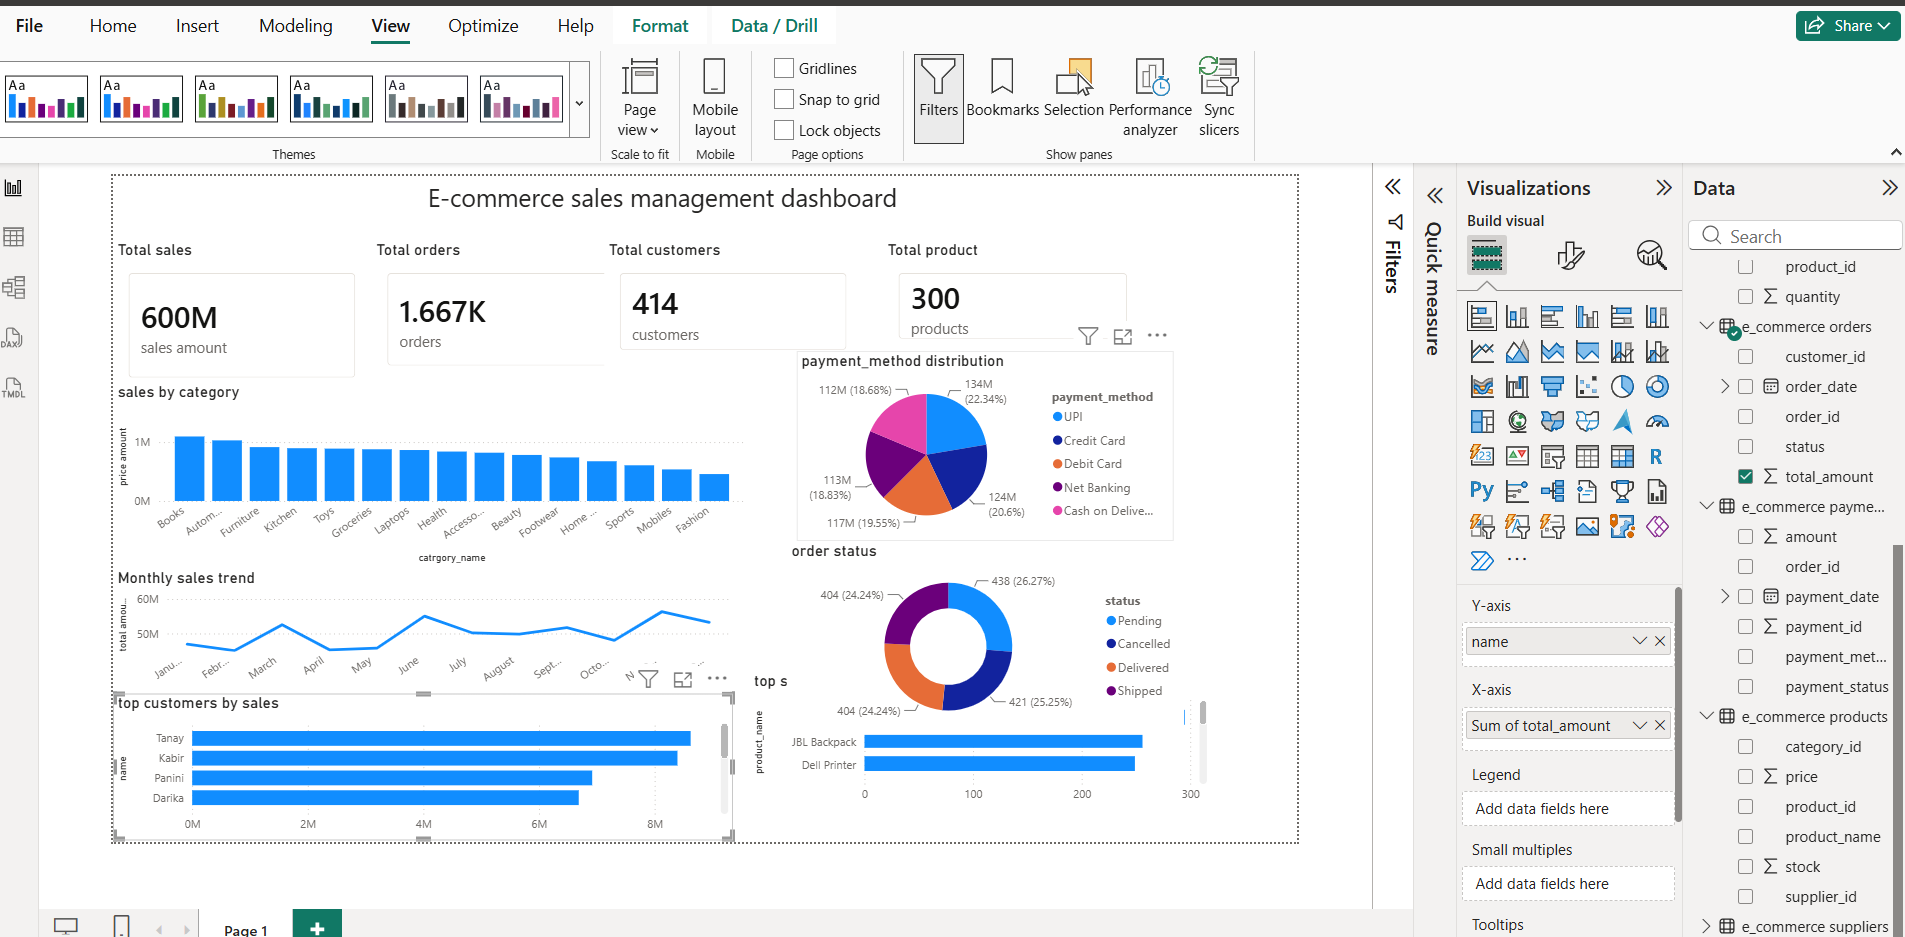

This screenshot's page, from the dashboard's own definition file:
{"tool":"powerbi","page":{"name":"Page 1","canvas":[1280,720],"ordinal":0},"visuals":[{"type":"cardVisual","title":"Total sales","fields":{"Data":["Sum(e_commerce orders.total_amount)"]},"box":[0,68.7,279.7,166.2],"z":0},{"type":"cardVisual","title":"Total orders","fields":{"Data":["CountNonNull(e_commerce orders.total_amount)"]},"box":[279.7,68.7,279.7,154.1],"z":1000},{"type":"cardVisual","title":"Total customers","fields":{"Data":["CountNonNull(e_commerce customers.customer_id)"]},"box":[531.1,68.7,279.7,136.5],"z":2000},{"type":"cardVisual","title":" Total product","fields":{"Data":["Count(e_commerce products.product_id)"]},"box":[832.4,68.7,281.1,124.3],"z":3000},{"type":"columnChart","title":" sales by category","fields":{"Category":["e_commerce categories.catrgory_name"],"Y":["Sum(e_commerce products.price)"]},"box":[0,222.8,687.8,201.4],"z":4000},{"type":"lineChart","title":" Monthly sales trend","fields":{"Category":["e_commerce orders.order_date.Variation.Date Hierarchy.Month","e_commerce orders.order_date.Variation.Date Hierarchy.Day"],"Y":["Sum(e_commerce orders.total_amount)"]},"box":[0,424.1,670.3,135.1],"z":5000},{"type":"pieChart","title":"payment_method distribution","fields":{"Category":["e_commerce payments.payment_method"],"Y":["Sum(e_commerce payments.amount)"]},"box":[739.2,189,406.8,205.4],"z":6000},{"type":"barChart","title":"top selling products","fields":{"Category":["e_commerce products.product_name"],"Y":["Sum(e_commerce order_itmes.quantity)"]},"box":[687.8,535.1,500,151.4],"z":6001},{"type":"barChart","title":"top customers by sales","fields":{"Category":["e_commerce customers.first_name"],"Y":["Sum(e_commerce orders.total_amount)"]},"box":[0,559.3,670.3,159.5],"z":6002},{"type":"donutChart","title":"order status","fields":{"Category":["e_commerce orders.status"],"Y":["CountNonNull(e_commerce orders.order_id)"]},"box":[728.4,394.4,429.7,209.5],"z":6003},{"type":"textbox","box":[335.1,0,523,47.3],"z":6004}]}

Visuals, with their boxes on the page's 1280x720 design canvas (x1, y1, x2, y2). These are canvas units, not pixel positions in the 1905x937 screenshot, which may show the page scaled, cropped or inside an application window:
"Total sales" cardVisual: bbox=[0, 69, 280, 235]
"Total orders" cardVisual: bbox=[280, 69, 559, 223]
"Total customers" cardVisual: bbox=[531, 69, 811, 205]
" Total product" cardVisual: bbox=[832, 69, 1114, 193]
" sales by category" columnChart: bbox=[0, 223, 688, 424]
" Monthly sales trend" lineChart: bbox=[0, 424, 670, 559]
"payment_method distribution" pieChart: bbox=[739, 189, 1146, 394]
"top selling products" barChart: bbox=[688, 535, 1188, 686]
"top customers by sales" barChart: bbox=[0, 559, 670, 719]
"order status" donutChart: bbox=[728, 394, 1158, 604]
textbox: bbox=[335, 0, 858, 47]
